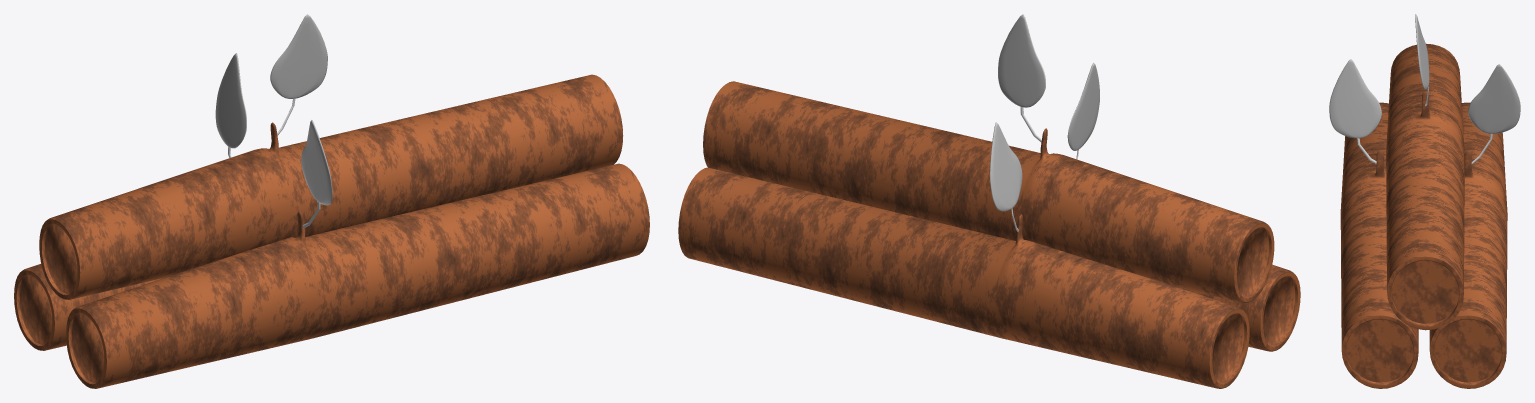
The model's file is palos.fbx.
3 views of the same model, side by side, from view 1: azimuth 30°, elevation 25°; view 2: azimuth 150°, elevation 25°; view 3: azimuth 270°, elevation 25° (orthographic). The views are drawn at different scales.
Visible parts, largest first — view 1: Circle.001, Circle.004, Circle.003, Plane.003, Plane.002, Plane.001; view 2: Circle.003, Circle.004, Circle.001, Plane.003, Plane.002, Plane.001; view 3: Circle.004, Circle.001, Circle.003, Plane.001, Plane.002, Plane.003.
Boxes of the visible parts, x1=… form: Circle.001: x1=66, y1=163, x2=649, y2=388; Circle.004: x1=39, y1=74, x2=623, y2=299; Circle.003: x1=14, y1=264, x2=163, y2=350; Plane.003: x1=270, y1=14, x2=327, y2=98; Plane.002: x1=215, y1=53, x2=246, y2=148; Plane.001: x1=301, y1=120, x2=332, y2=205; Circle.003: x1=678, y1=167, x2=1249, y2=388; Circle.004: x1=703, y1=81, x2=1274, y2=302; Circle.001: x1=1183, y1=264, x2=1300, y2=351; Plane.003: x1=998, y1=14, x2=1045, y2=107; Plane.002: x1=990, y1=122, x2=1022, y2=211; Plane.001: x1=1067, y1=62, x2=1099, y2=150; Circle.004: x1=1386, y1=43, x2=1464, y2=330; Circle.001: x1=1340, y1=102, x2=1418, y2=388; Circle.003: x1=1429, y1=102, x2=1507, y2=388; Plane.001: x1=1329, y1=59, x2=1381, y2=138; Plane.002: x1=1468, y1=64, x2=1520, y2=133; Plane.003: x1=1415, y1=14, x2=1429, y2=89.
Size of the model in its own units: 61.13 by 32.46 by 22.09.
